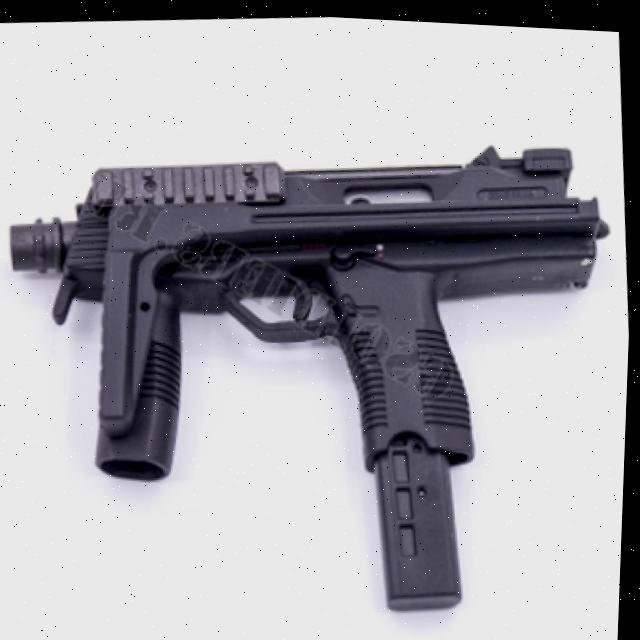firearm: (0, 101, 637, 640)
